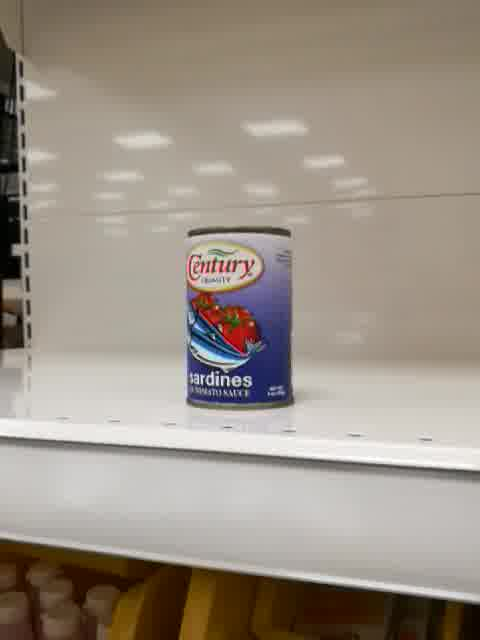sardine: (183, 222, 297, 412)
